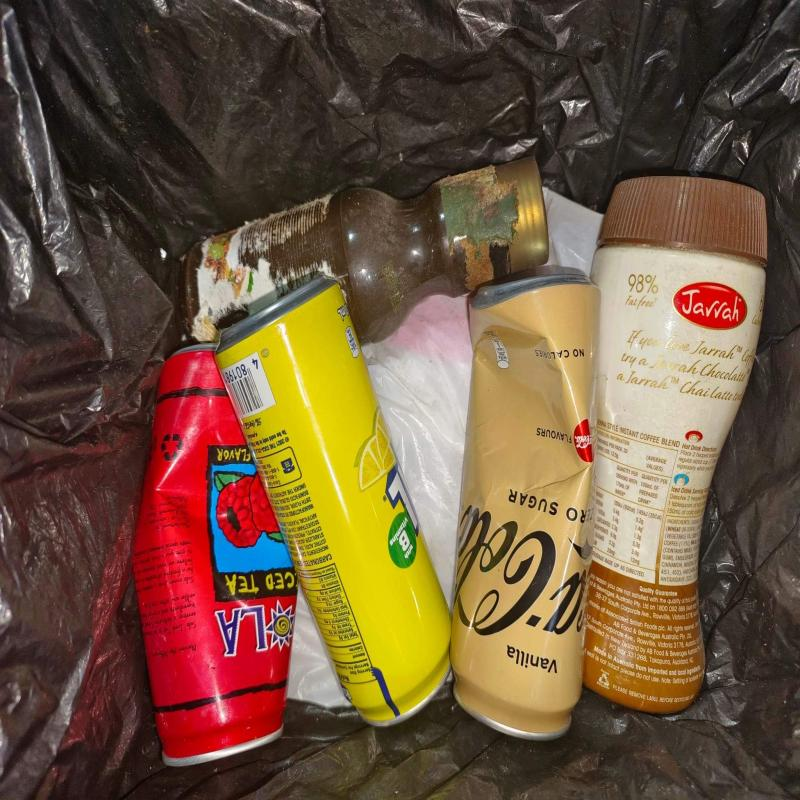aluminum: (215, 276, 451, 730), (450, 267, 600, 744), (131, 344, 298, 770)
glass bottle: (180, 157, 549, 345)
plastic bottle: (582, 176, 769, 719)
